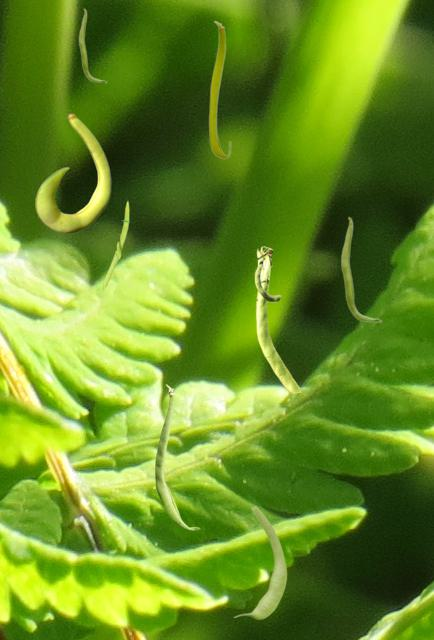french_bean: (35, 113, 110, 232), (254, 246, 301, 391), (155, 384, 199, 529), (233, 505, 286, 618), (340, 216, 381, 322), (208, 20, 230, 158), (101, 199, 129, 299), (78, 8, 106, 82)
